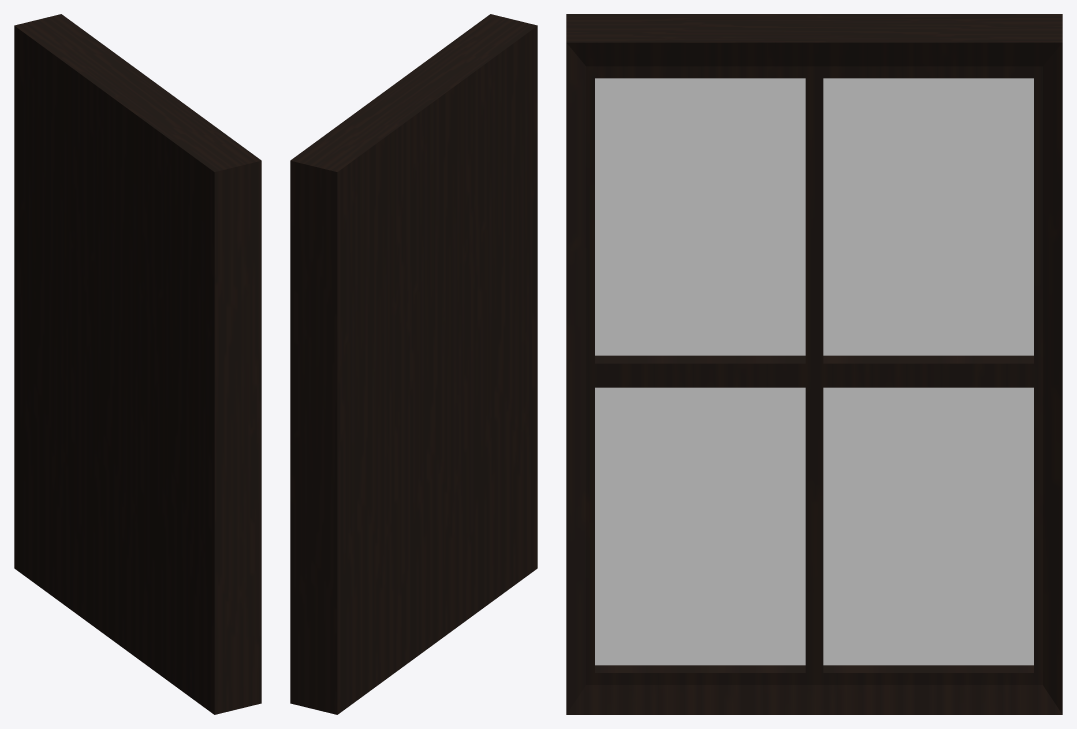
The model's file is Window.fbx.
3 renders of one model, left to right at view 1: azimuth 30°, elevation 25°; view 2: azimuth 150°, elevation 25°; view 3: azimuth 270°, elevation 25°, orthographic. The views are drawn at different scales.
Visible parts, largest first — view 1: Cube; view 2: Cube; view 3: Cube.
Part boxes in pixels (x1,y1,x2,y2): Cube: (14,14,261,714); Cube: (290,14,537,714); Cube: (566,14,1062,714).
Size of the model in its own units: 48.56 by 532 by 356.
Materials: 2 (1 with a texture image).
